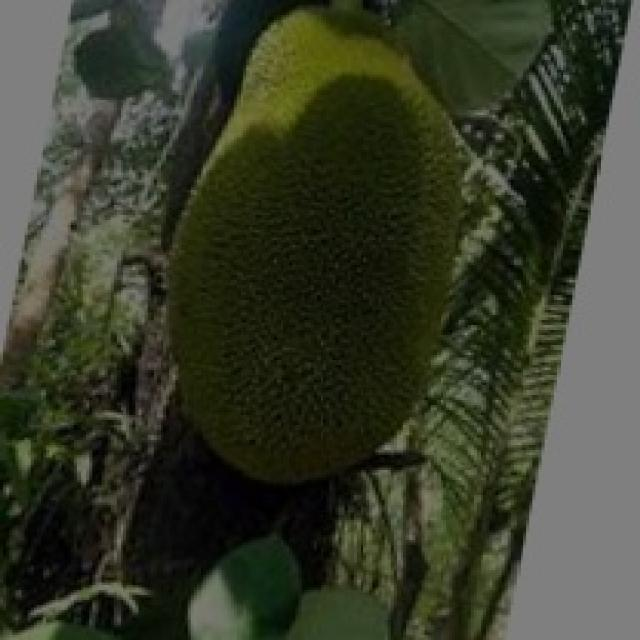Fruit: (120, 0, 520, 342)
